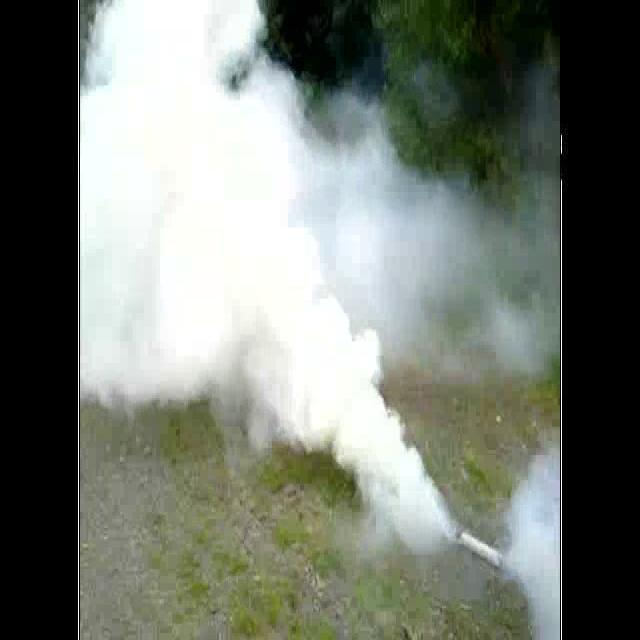Smoke: (80, 0, 462, 549), (283, 61, 560, 377), (502, 440, 562, 640)
